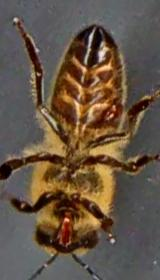varroa_mite: (103, 96, 126, 130)
